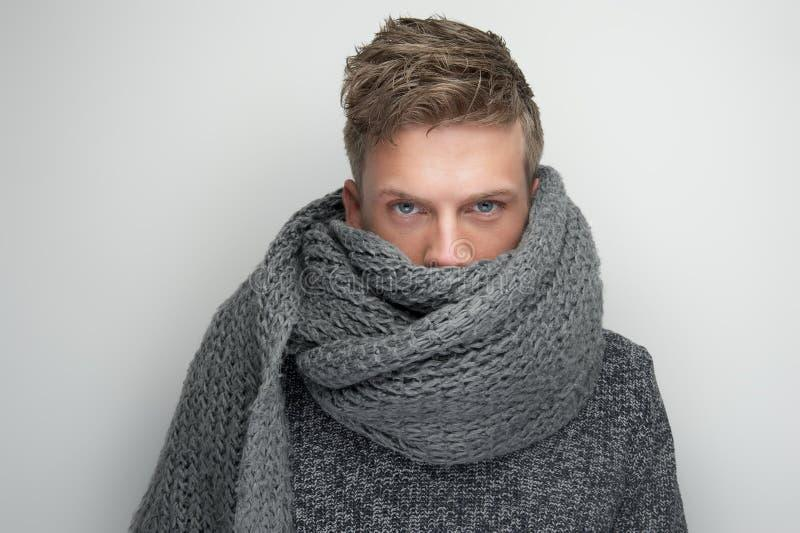scarf-kerchief: (290, 157, 617, 444)
